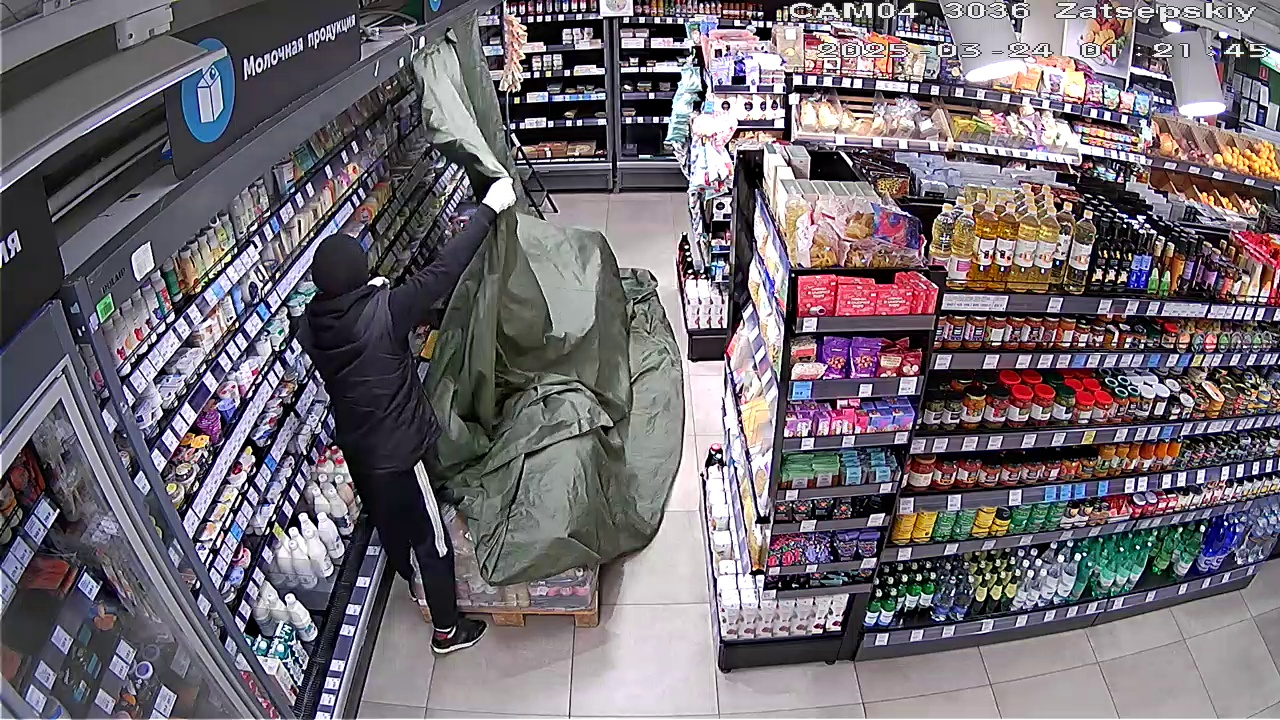Human: (286, 179, 515, 639)
dome: (412, 44, 685, 572)
